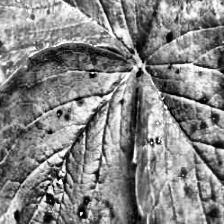Leaf Spot: (0, 42, 139, 224), (133, 0, 224, 224), (0, 0, 169, 78)
